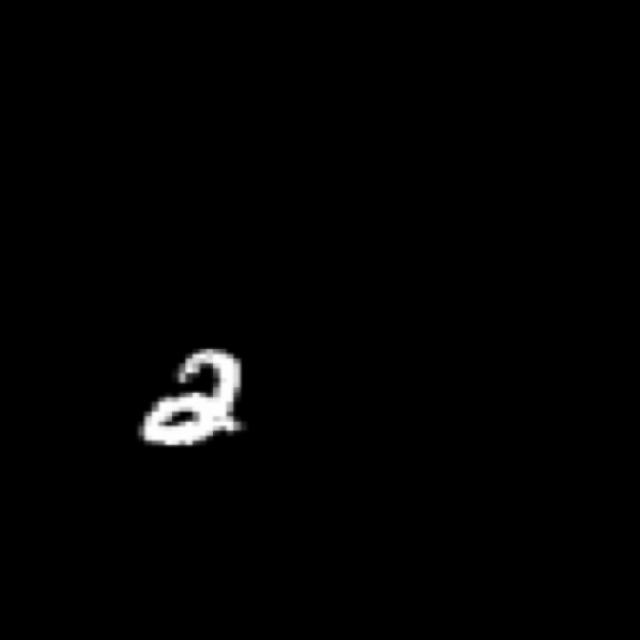two -2-: (127, 338, 271, 463)
